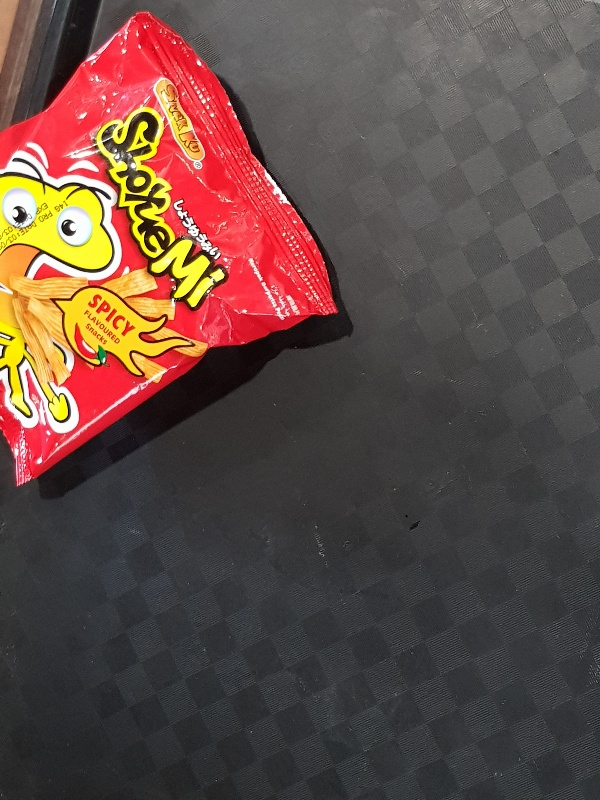ShoyueMi Spicy Flavoured Snacks: (1, 11, 340, 488)
